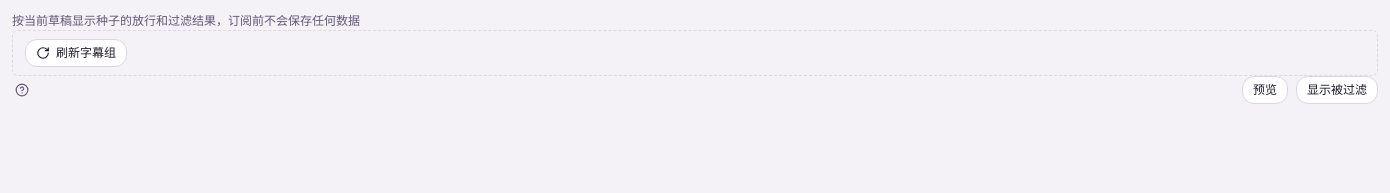
Test: 订阅前 RSS 工作区 › 按服务端 snapshot_required 获取快照后只重读一次
Click the button "预览".
click(1265, 90)  # box [1242,76,1288,104]
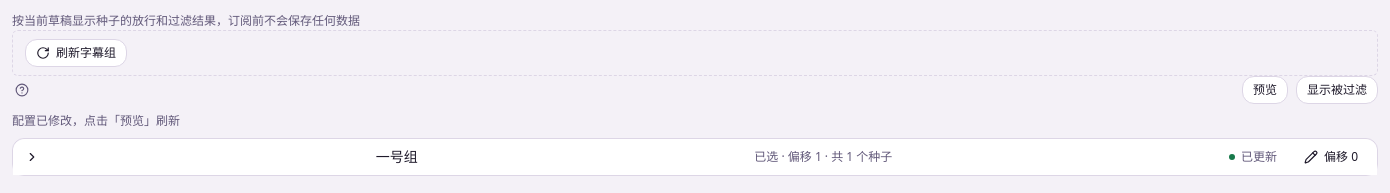
Result: the text "一号组" is shown at [376,147,418,167]
